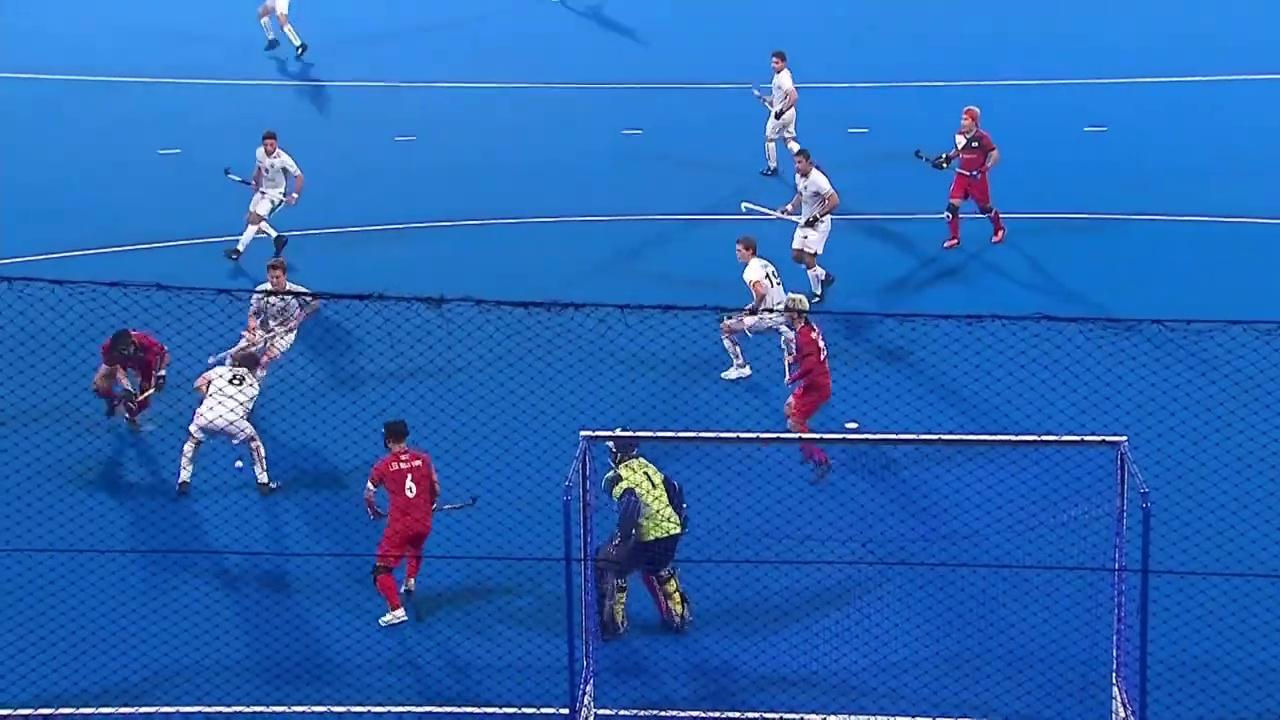ball: (222, 453, 254, 479)
